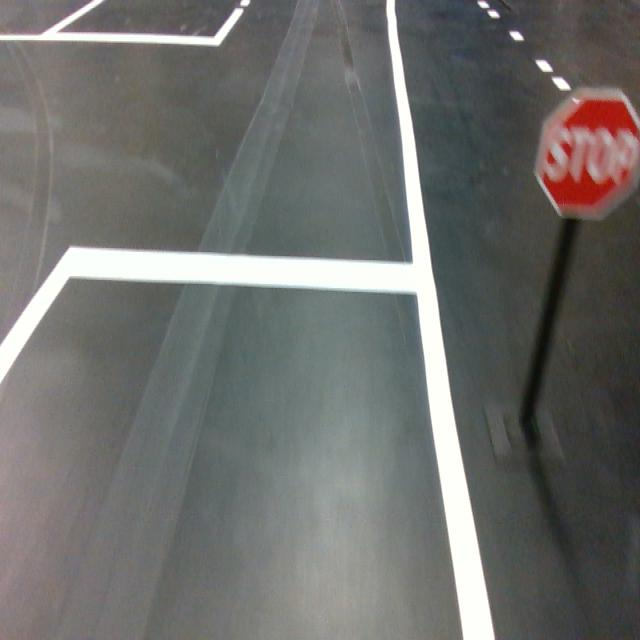stop-sign: (532, 87, 640, 222)
